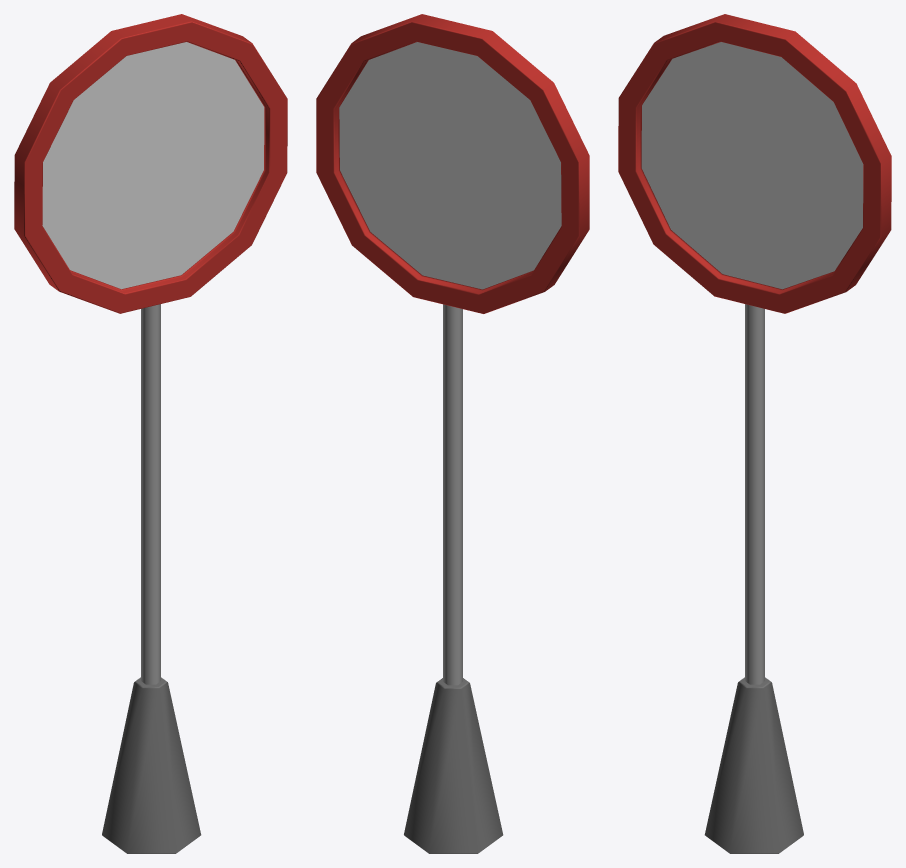
3 views of the same model, side by side, from view 1: azimuth 30°, elevation 25°; view 2: azimuth 150°, elevation 25°; view 3: azimuth 330°, elevation 25° (orthographic).
Visible parts, largest first — view 1: Plane.018; view 2: Plane.018; view 3: Plane.018.
Part boxes in pixels (<box>): Plane.018: <box>14,14,287,853</box>; Plane.018: <box>316,14,589,853</box>; Plane.018: <box>618,14,891,853</box>.
Bounding box in the file's own units: 114 × 335 × 37.33.
